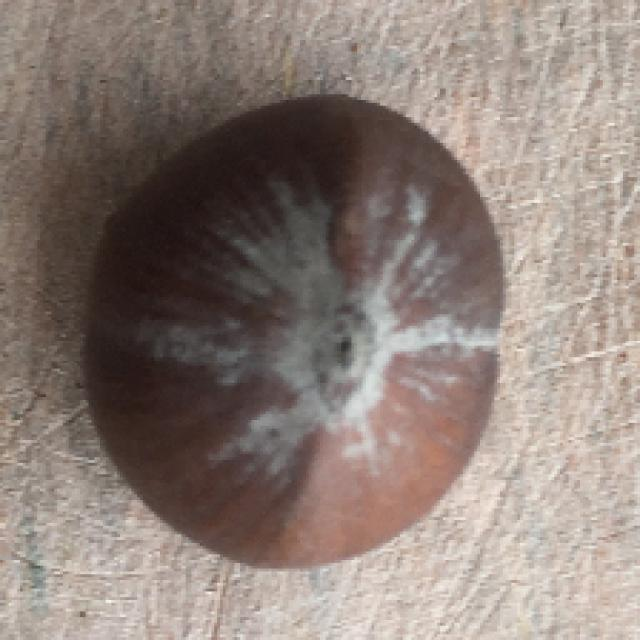qualityHazelnut: (74, 84, 536, 592)
